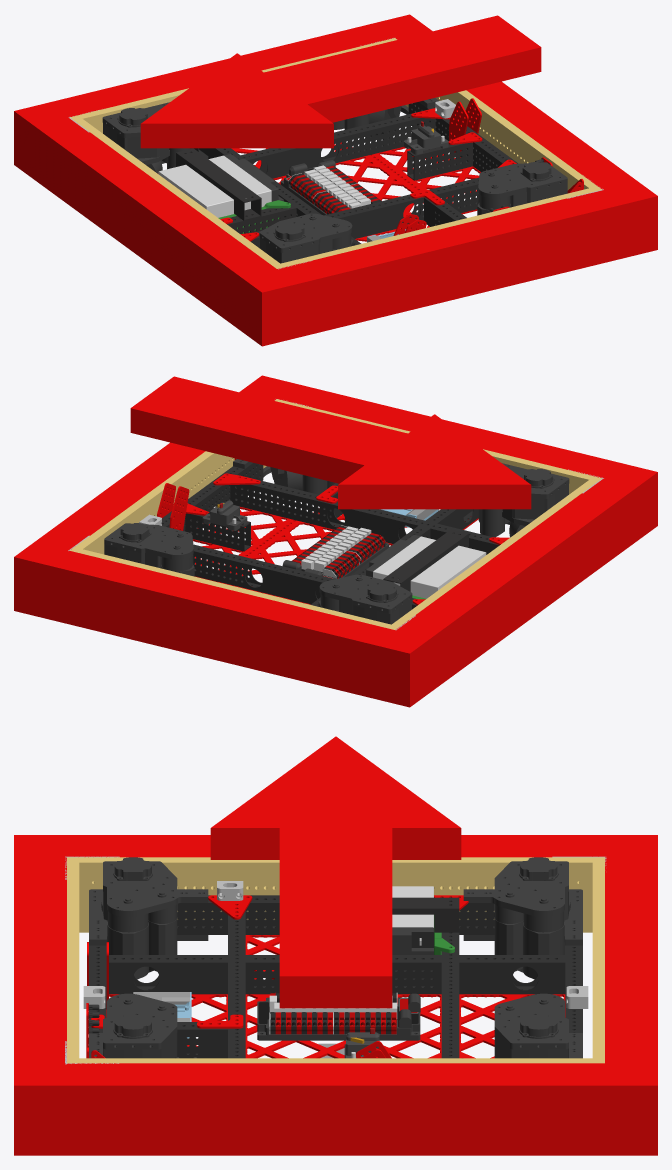
3 renders of one model, top to bottom at view 1: azimuth 30°, elevation 25°; view 2: azimuth 150°, elevation 25°; view 3: azimuth 270°, elevation 25°, orthographic. The views are drawn at different scales.
Visible parts, largest first — view 1: Part 1, Left Foam, Front Foam, Right Foam, Tube 2"x1"x24" (×2), Block Thrifty Swerve Narrow B (×2), Back Foam, Block Thrifty Swerve Narrow A (×2), Robot Battery, Back Bumper, Bellypan, Simplified PDP 2.0 (+11 smaller); view 2: Right Foam, Part 1, Front Foam, Tube 2"x1"x24" (×2), Back Foam, Left Foam, Block Thrifty Swerve Narrow A (×2), Block Thrifty Swerve Narrow B (×2), Back Bumper, Robot Battery, Bellypan, Simplified PDP 2.0 (+9 smaller); view 3: Back Foam, Part 1, Left Foam, Block Thrifty Swerve Narrow A (×2), Block Thrifty Swerve Narrow B (×2), Right Foam, Front Bumper, Front Foam, Tube 2"x1"x6.875" (×2), Bellypan, Simplified PDP 2.0, Tube 2"x1"x24" (×2) (+10 smaller).
Part boxes in pixels (<box>): Part 1: <box>140,15,541,148</box>; Left Foam: <box>277,181,657,337</box>; Front Foam: <box>34,117,297,346</box>; Right Foam: <box>14,23,394,179</box>; Tube 2"x1"x24" (×2): <box>235,110,478,248</box>; Block Thrifty Swerve Narrow B (×2): <box>102,102,567,215</box>; Back Foam: <box>375,14,637,189</box>; Block Thrifty Swerve Narrow A (×2): <box>259,98,438,263</box>; Robot Battery: <box>158,154,283,217</box>; Back Bumper: <box>387,38,601,191</box>; Bellypan: <box>231,142,480,241</box>; Simplified PDP 2.0: <box>280,159,381,217</box>; Right Foam: <box>49,551,430,707</box>; Part 1: <box>130,376,531,509</box>; Front Foam: <box>396,463,657,692</box>; Tube 2"x1"x24" (×2): <box>193,475,499,609</box>; Back Foam: <box>14,390,275,619</box>; Left Foam: <box>242,375,622,477</box>; Block Thrifty Swerve Narrow A (×2): <box>104,463,569,576</box>; Block Thrifty Swerve Narrow B (×2): <box>233,459,412,624</box>; Back Bumper: <box>70,399,284,554</box>; Robot Battery: <box>366,534,486,598</box>; Bellypan: <box>193,507,478,604</box>; Simplified PDP 2.0: <box>282,525,389,578</box>; Back Foam: <box>67,1063,657,1155</box>; Part 1: <box>210,736,461,1008</box>; Left Foam: <box>14,857,66,1155</box>; Block Thrifty Swerve Narrow A (×2): <box>89,857,582,1058</box>; Block Thrifty Swerve Narrow B (×2): <box>89,857,582,1058</box>; Right Foam: <box>605,835,657,1063</box>; Front Bumper: <box>67,857,604,932</box>; Front Foam: <box>14,835,604,857</box>; Tube 2"x1"x6.875" (×2): <box>109,955,227,1058</box>; Bellypan: <box>106,935,565,1058</box>; Simplified PDP 2.0: <box>257,992,420,1040</box>; Tube 2"x1"x24" (×2): <box>228,911,459,1058</box>.
Bounding box in the file's own units: 0.8547 × 0.3556 × 0.9277.
